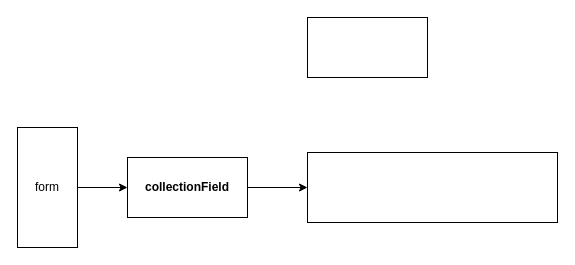
Some shapes in this 575 by 265 pixel diagram are drawn without their labels. Here are the shapes that lost their labels. From the top down, the centre of each, then its label:
At (x=367, y=47): "formDataObject".
At (x=432, y=187): "formResultDataValidationStore".
